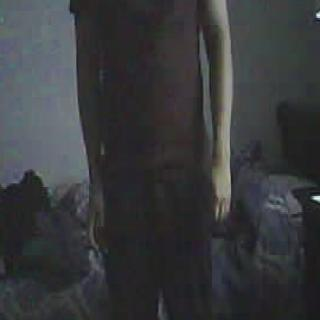Maroon T-Shirt: (89, 0, 217, 158)
Navy Sweatpants: (102, 160, 219, 320)
